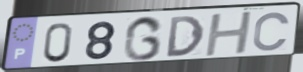0: (42, 22, 75, 64)
8: (84, 20, 117, 62)
C: (251, 11, 293, 53)
D: (165, 14, 206, 59)
G: (122, 14, 166, 62)
H: (203, 9, 255, 58)
